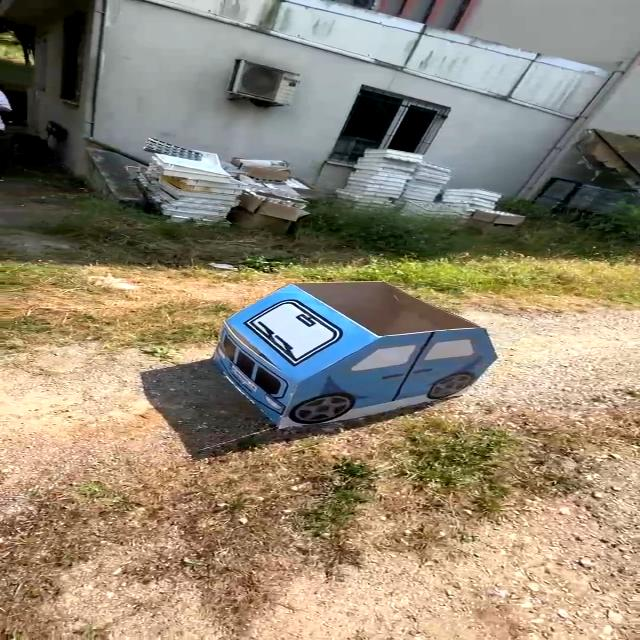blue_car: (207, 267, 514, 445)
